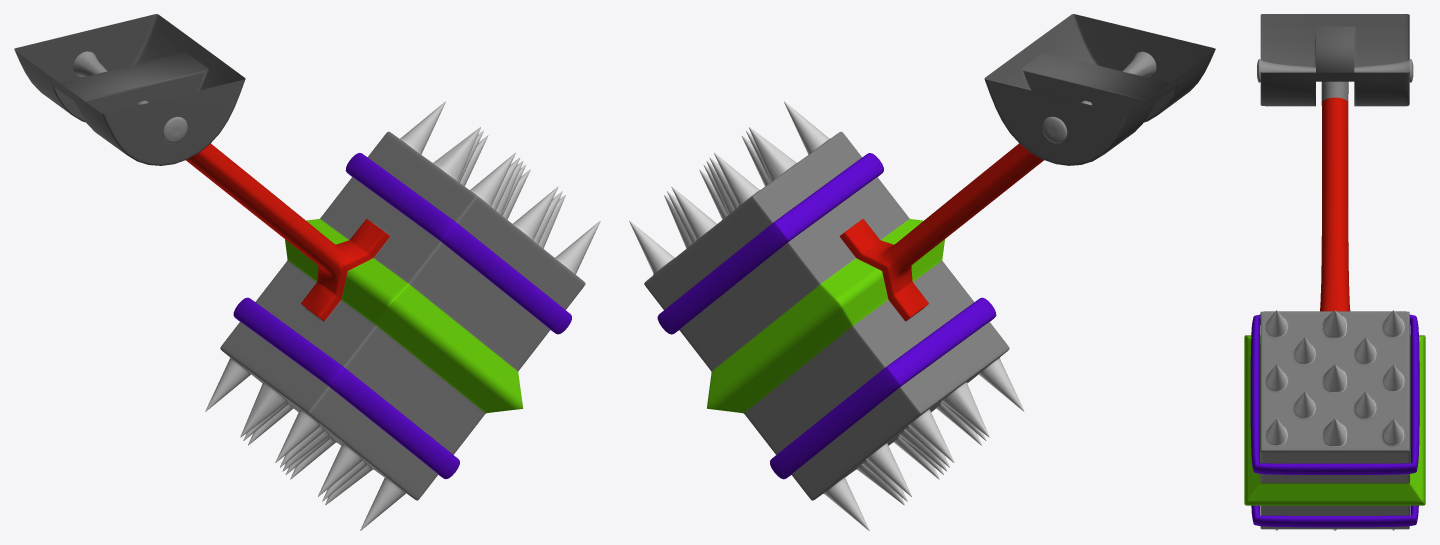
File: martillo.fbx
3 renders of one model, left to right at view 1: azimuth 30°, elevation 25°; view 2: azimuth 150°, elevation 25°; view 3: azimuth 270°, elevation 25°, orthographic. The views are drawn at different scales.
Parts seen in each view (by area): view 1: Cube, Cylinder, Cube.001, Cylinder.003; view 2: Cube, Cylinder, Cube.001, Cylinder.003; view 3: Cube, Cylinder, Cube.001, Cylinder.003.
Boxes of the visible parts, <box> form: Cube: <box>186,101,600,530</box>; Cylinder: <box>14,14,245,165</box>; Cube.001: <box>233,153,571,479</box>; Cylinder.003: <box>73,51,187,143</box>; Cube: <box>629,101,1043,530</box>; Cylinder: <box>984,14,1215,165</box>; Cube.001: <box>657,153,996,479</box>; Cylinder.003: <box>1042,51,1156,143</box>; Cube: <box>1244,81,1425,530</box>; Cylinder: <box>1260,14,1409,106</box>; Cube.001: <box>1250,314,1419,527</box>; Cylinder.003: <box>1257,59,1413,82</box>.
Bounding box in the file's own units: 6.55 × 6.02 × 2.42.
